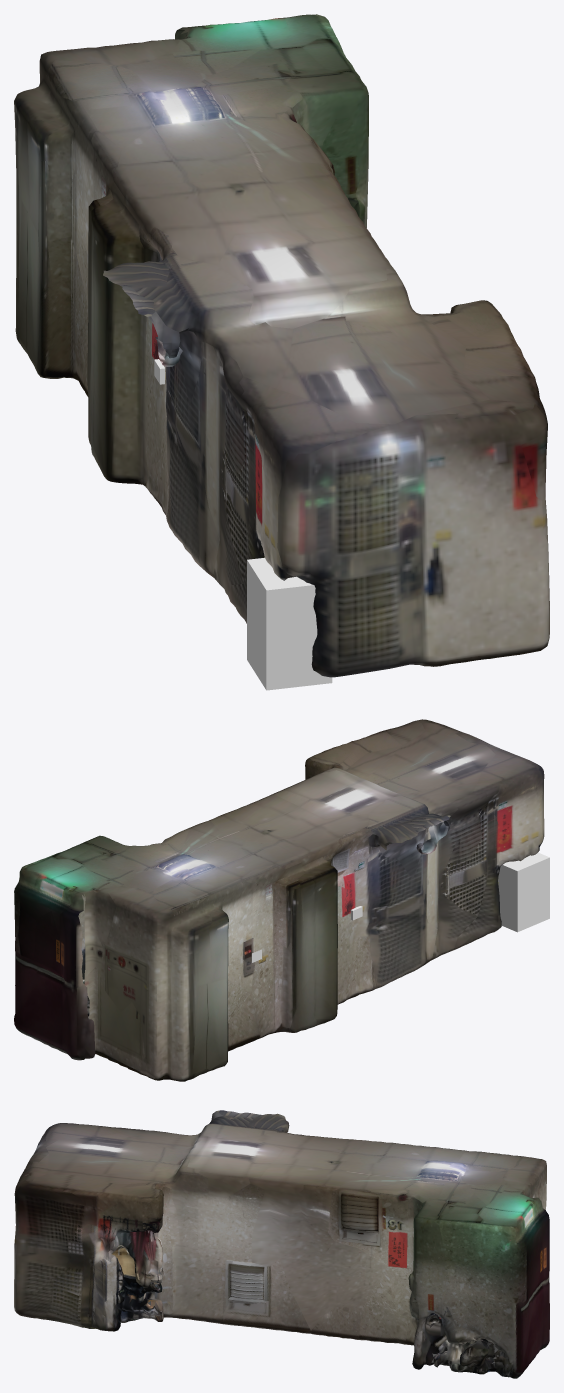
File: elv_with_vol.glb
3 renders of one model, top to bottom at view 1: azimuth 30°, elevation 25°; view 2: azimuth 150°, elevation 25°; view 3: azimuth 270°, elevation 25°, orthographic. The views are drawn at different scales.
Parts seen in each view (by area): view 1: background, selectA; view 2: background, selectA; view 3: background.
Boxes of the visible parts, x1,y1,x2,y2 form: background: (14, 14, 549, 677); selectA: (247, 557, 332, 690); background: (14, 719, 544, 1081); selectA: (498, 852, 549, 932); background: (14, 1110, 549, 1378).
Size of the model in its own units: 4.19 by 2.4 by 7.4.
2 materials, 1 textured.
